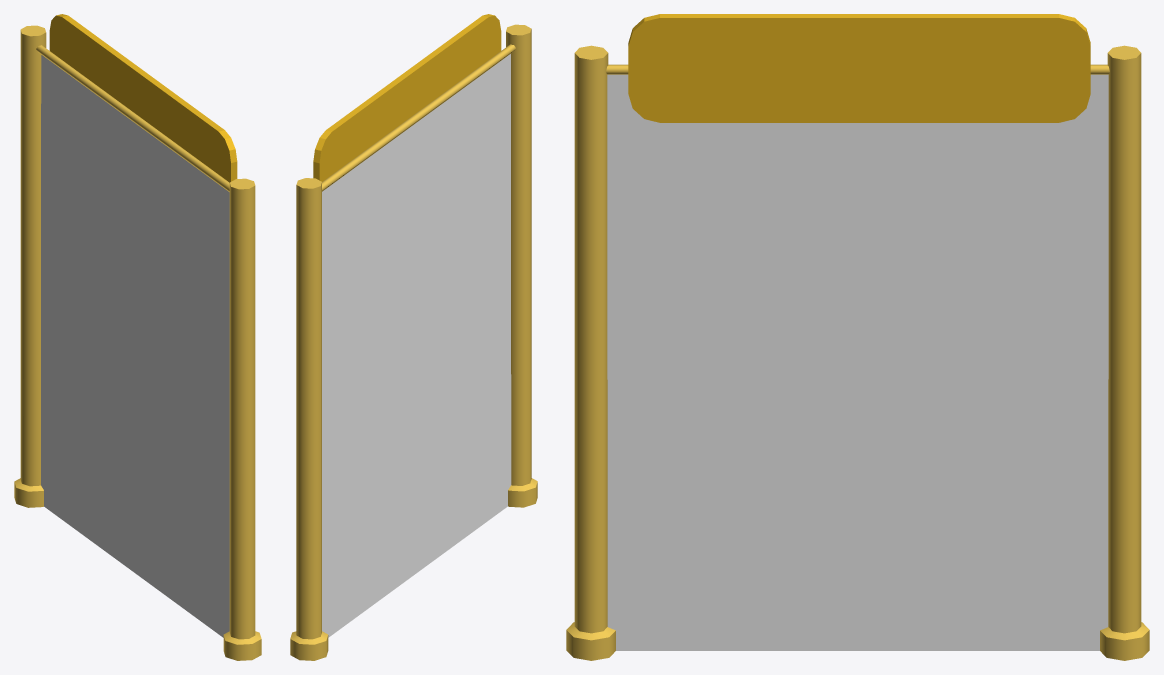
The model's file is yellow gate.fbx.
3 renders of one model, left to right at view 1: azimuth 30°, elevation 25°; view 2: azimuth 150°, elevation 25°; view 3: azimuth 270°, elevation 25°, orthographic. The views are drawn at different scales.
Parts seen in each view (by area): view 1: plane, yellow_gate; view 2: plane, yellow_gate; view 3: plane, yellow_gate.
Boxes of the visible parts, x1,y1,x2,y2 form: plane: [41, 55, 229, 637]; yellow_gate: [14, 14, 261, 660]; plane: [322, 54, 511, 637]; yellow_gate: [290, 14, 537, 660]; plane: [607, 74, 1108, 650]; yellow_gate: [566, 14, 1149, 660].
Size of the model in its own units: 0.2406 by 3.37 by 2.79.
1 material, 1 textured.
